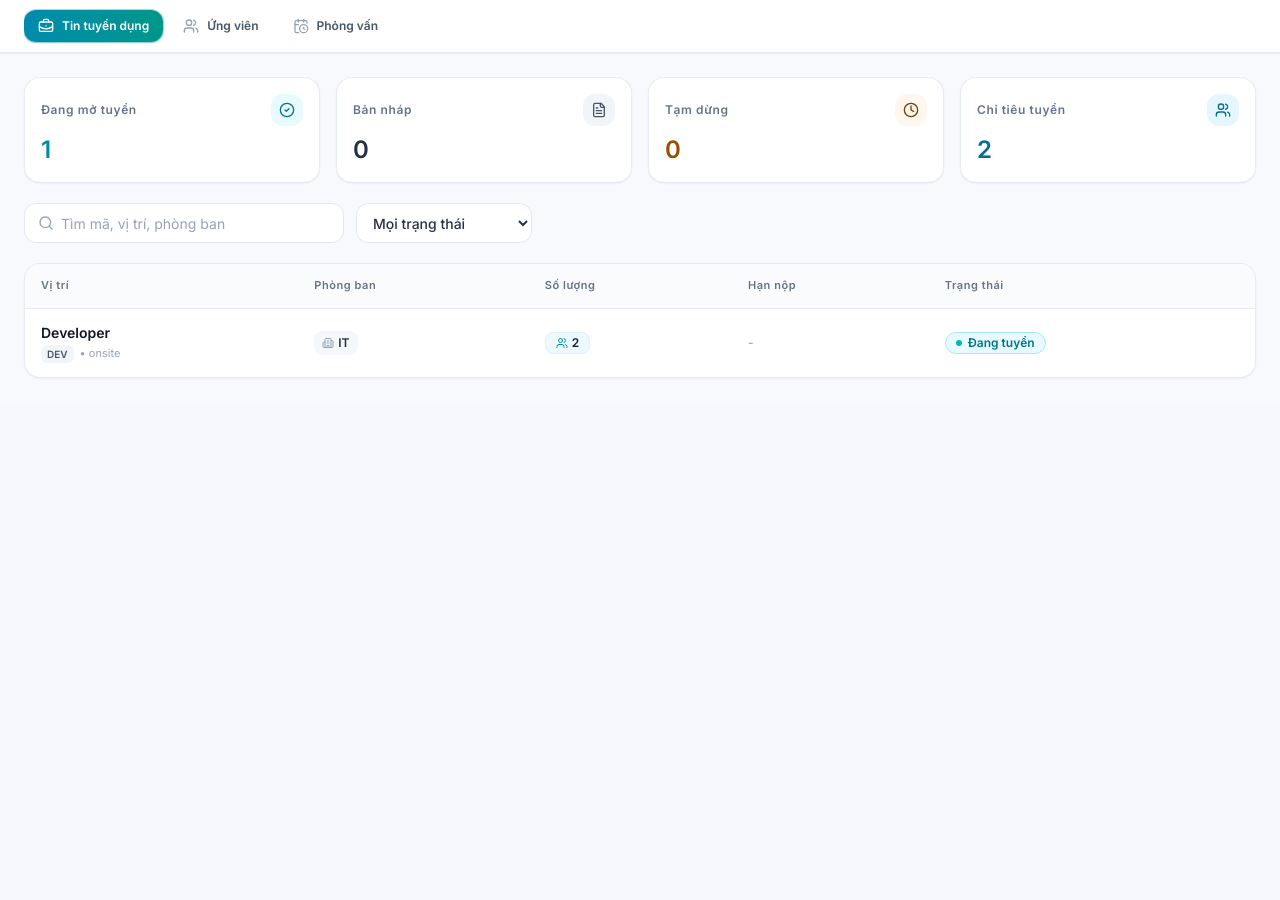
Test: RecruitmentTab › does not expose applicant attachment mutations to read-only users
Check: the text "Developer" is shown, box [41, 324, 110, 341]
Click the button "Ứng viên" at (221, 26), box [169, 10, 272, 42]
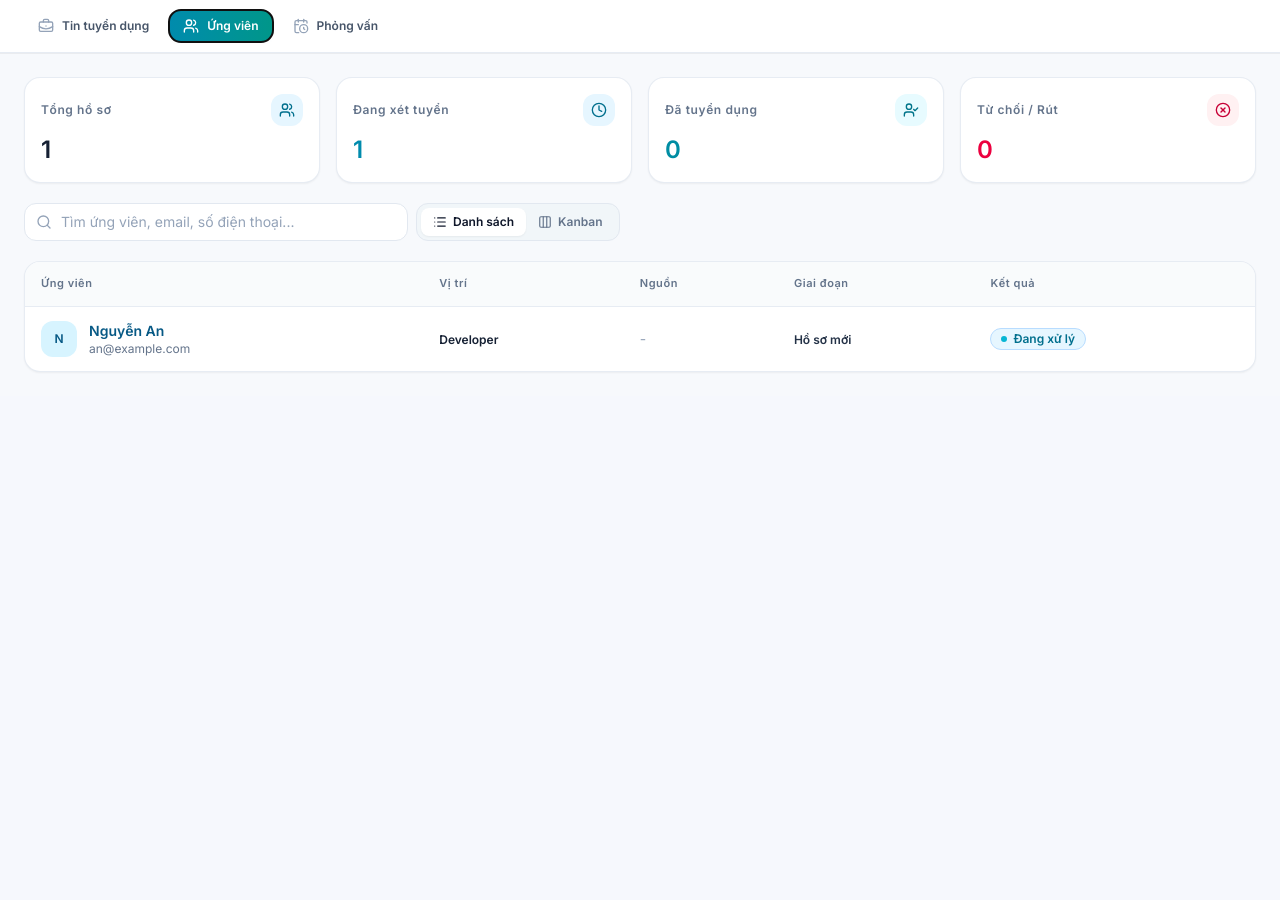
Click the button "Nguyễn An" at (127, 331), box [89, 321, 164, 341]
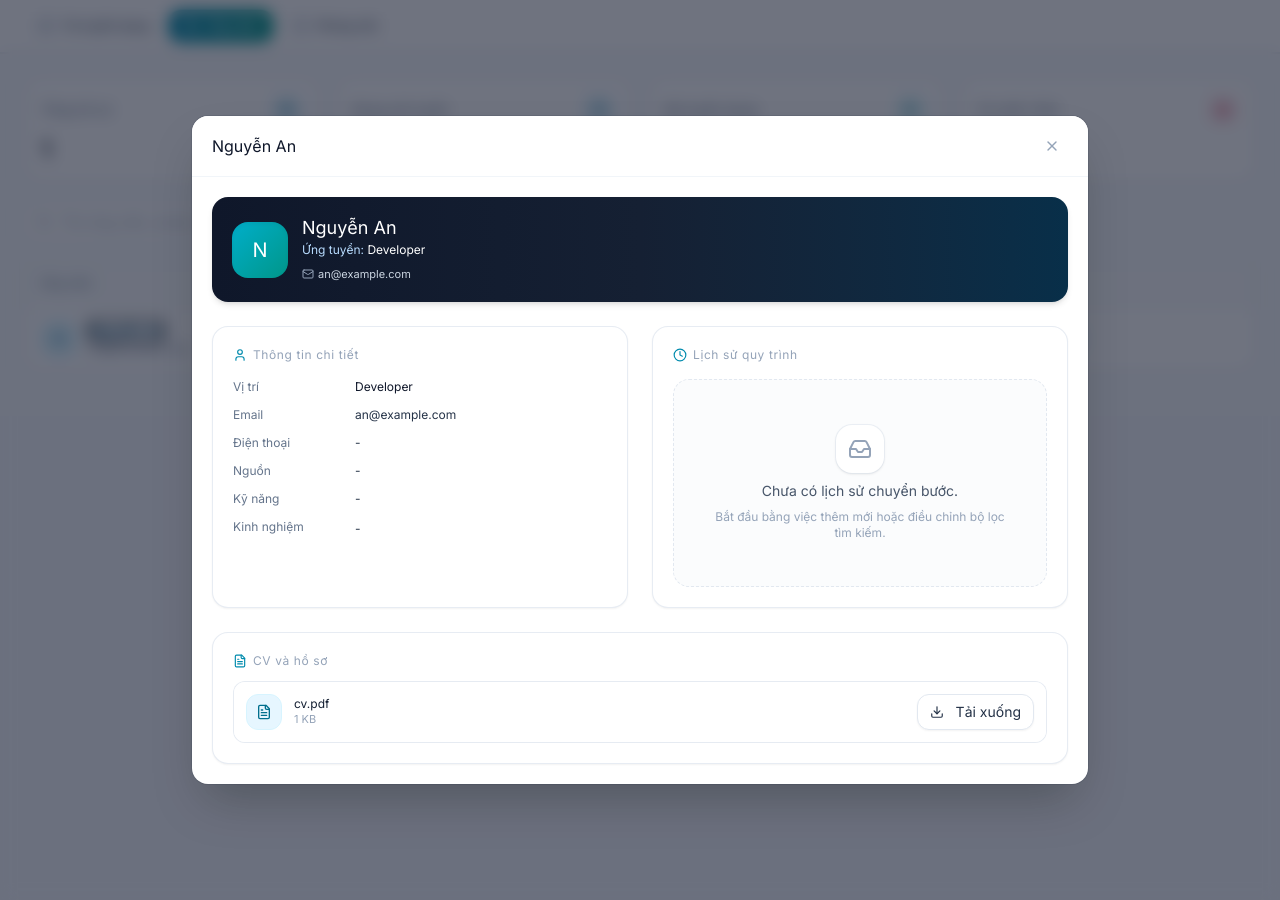
Check: the dialog is shown
Check: the button "Tải xuống" is shown, box [917, 694, 1034, 730]
